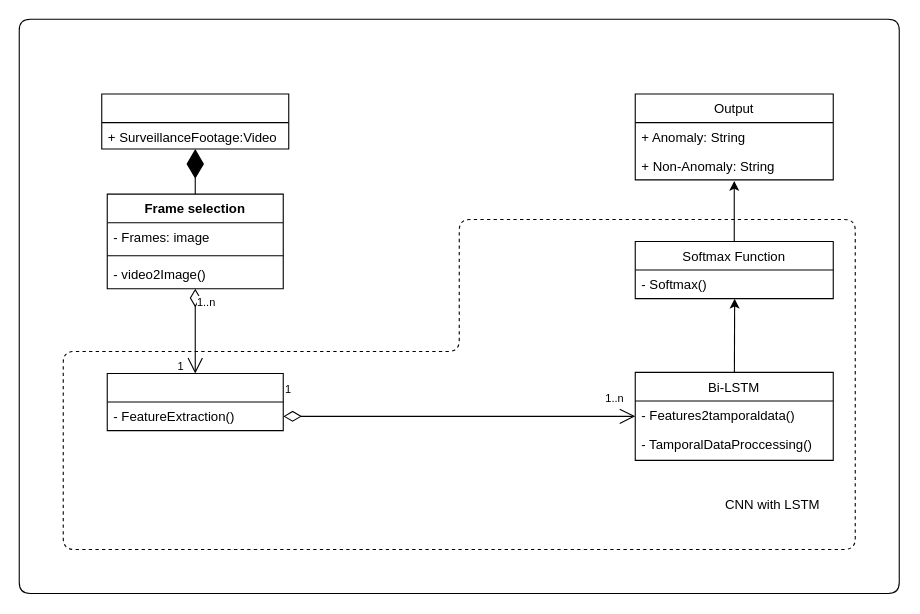
This 920x614 diagram has some shape labels left out. The box of each missing label's shape, as (x1, y1, x2, y2) in pixels:
Input: (101, 93, 289, 149)
Trained CNN: (106, 372, 283, 431)
